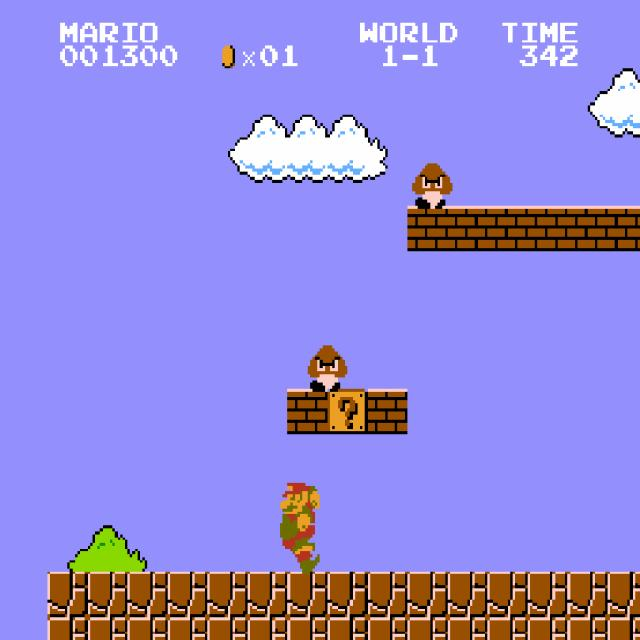big_mario: (277, 480, 320, 574)
brick_block: (287, 389, 328, 434), (367, 389, 408, 434), (407, 206, 448, 251), (447, 206, 488, 251), (487, 206, 528, 251), (527, 206, 568, 251), (567, 206, 608, 251), (607, 205, 640, 251)
goomba: (305, 343, 348, 391), (410, 160, 452, 208)
mystery_block: (327, 389, 368, 434)
undestructible_block: (47, 572, 88, 617), (87, 572, 128, 617), (127, 572, 168, 617), (167, 572, 208, 617), (207, 572, 248, 617), (247, 572, 288, 617), (287, 572, 328, 617), (327, 572, 368, 617), (367, 572, 408, 617), (407, 572, 448, 617), (447, 572, 488, 617), (487, 572, 528, 617), (527, 572, 568, 617), (567, 572, 608, 617), (607, 571, 640, 617), (47, 617, 88, 640), (87, 617, 128, 640), (127, 617, 168, 640), (167, 617, 208, 640), (207, 617, 248, 640), (247, 617, 288, 640), (287, 617, 328, 640), (327, 617, 368, 640), (367, 617, 408, 640), (407, 617, 448, 640), (447, 617, 488, 640), (487, 617, 528, 640), (527, 617, 568, 640), (567, 617, 608, 640), (607, 617, 640, 639)
